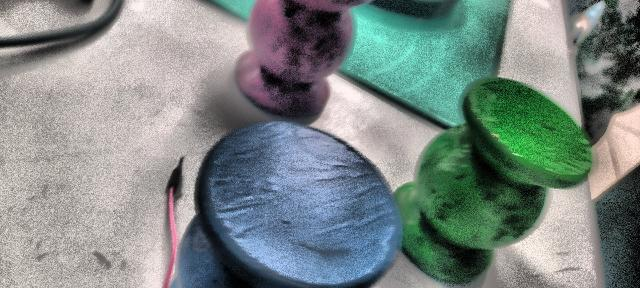blue: (196, 120, 402, 286)
green: (393, 75, 596, 284)
red: (236, 0, 367, 121)
